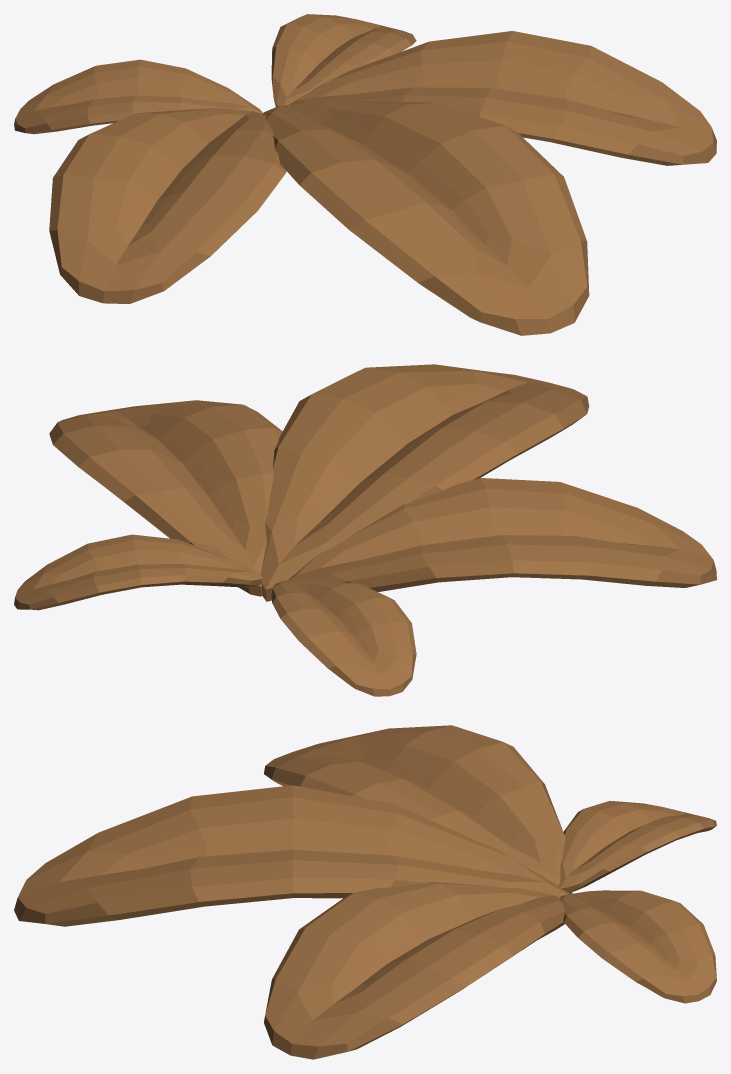
Rendered from feuille_B_v02.fbx.
3 views of the same model, one above another, from view 1: azimuth 30°, elevation 25°; view 2: azimuth 150°, elevation 25°; view 3: azimuth 270°, elevation 25° (orthographic).
Visible parts, largest first — view 1: Plane; view 2: Plane; view 3: Plane.
Boxes of the visible parts, <box> form: Plane: <box>14,14,716,335</box>; Plane: <box>14,364,716,696</box>; Plane: <box>14,725,716,1059</box>.
Bounding box in the file's own units: 528 × 67.92 × 511.
